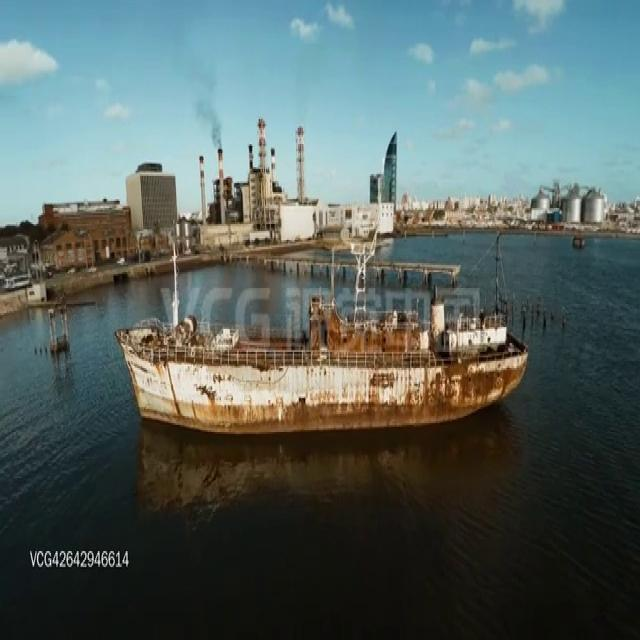cargoship: (116, 242, 526, 441)
